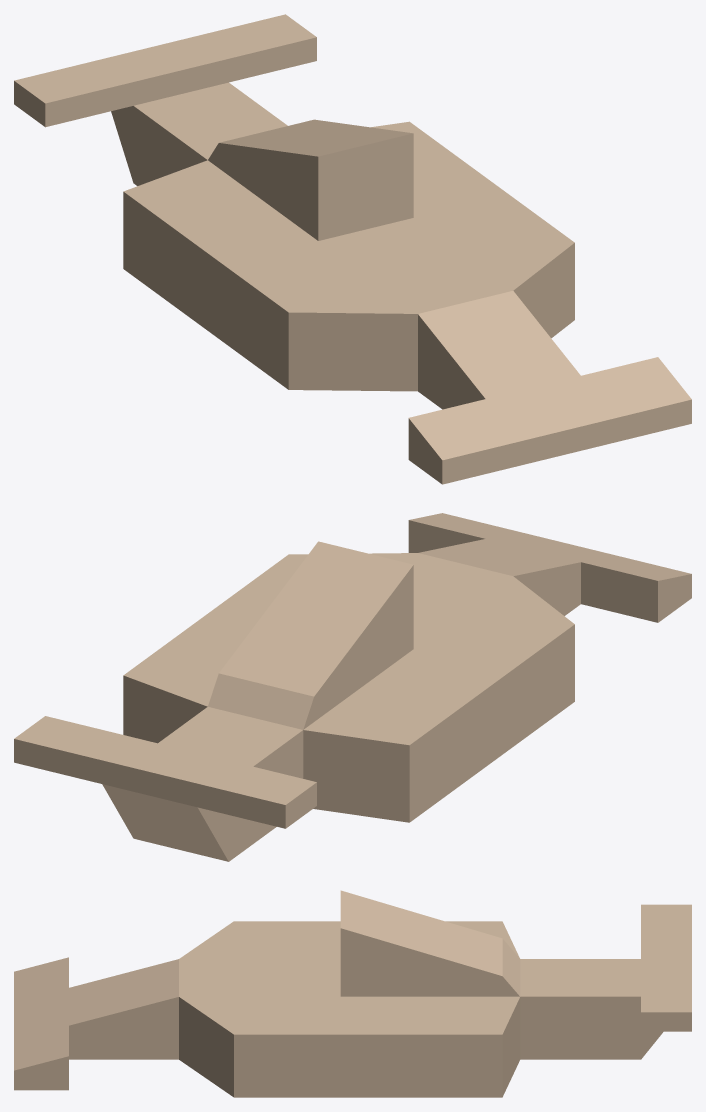
File: F1racecar1.obj
3 renders of one model, top to bottom at view 1: azimuth 30°, elevation 25°; view 2: azimuth 150°, elevation 25°; view 3: azimuth 270°, elevation 25°, orthographic. The views are drawn at different scales.
Visible parts, largest first — view 1: Cube1; view 2: Cube1; view 3: Cube1.
Part boxes in pixels (box(x1,y1,x2,y2)): Cube1: box(14, 14, 691, 484); Cube1: box(14, 513, 691, 861); Cube1: box(14, 890, 691, 1097).
Size of the model in its own units: 2 by 1.08 by 5.05.
